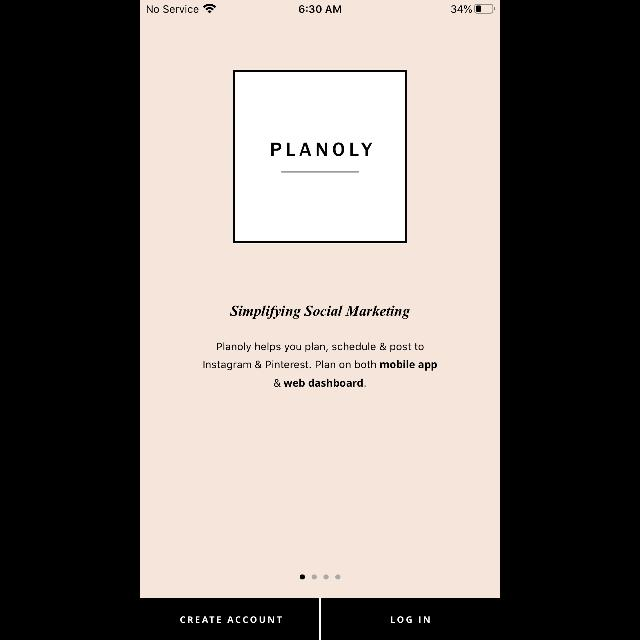image: (234, 70, 406, 244)
pageindicator: (300, 574, 340, 580)
text: (204, 343, 436, 387), (230, 306, 410, 318)
textbutton: (321, 598, 499, 640), (141, 598, 319, 640)
uppertaskbar: (140, 0, 500, 14)
